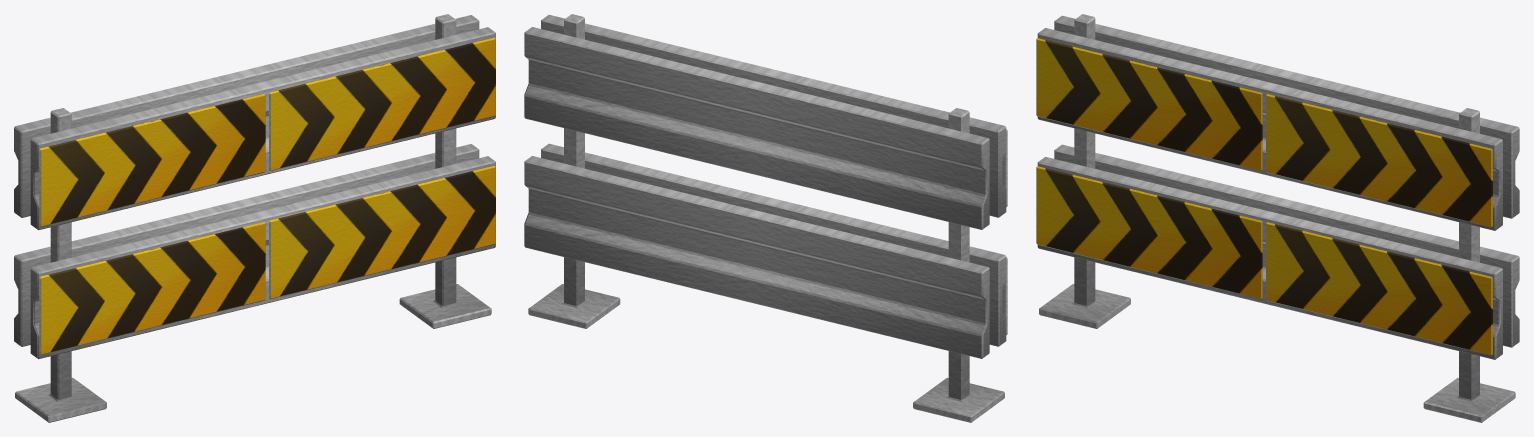
File: Barrier_Double_Right 2.fbx
3 renders of one model, left to right at view 1: azimuth 30°, elevation 25°; view 2: azimuth 150°, elevation 25°; view 3: azimuth 330°, elevation 25°, orthographic.
Visible parts, largest first — view 1: Barrier_Double_Right; view 2: Barrier_Double_Right; view 3: Barrier_Double_Right.
Boxes of the visible parts, x1,y1,x2,y2 form: Barrier_Double_Right: (14, 14, 495, 422); Barrier_Double_Right: (524, 14, 1007, 422); Barrier_Double_Right: (1036, 14, 1519, 422).
Size of the model in its own units: 95.44 by 58.1 by 12.31.
Materials: 2 (2 with a texture image).
